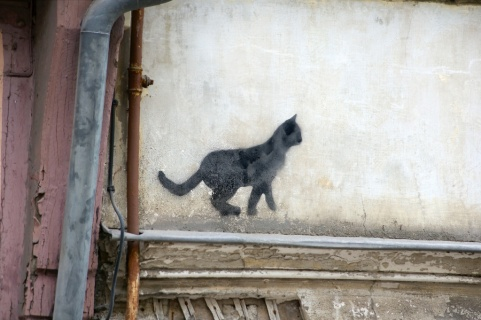Cat: (159, 109, 302, 219)
